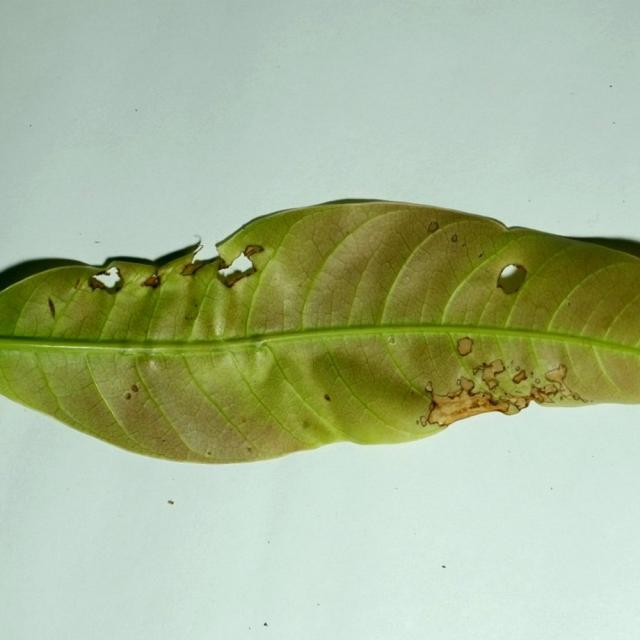Anthracnose: (85, 240, 259, 295), (416, 220, 515, 309), (435, 335, 531, 397), (77, 264, 134, 296), (425, 380, 465, 410), (242, 244, 264, 258), (124, 384, 139, 399), (72, 278, 86, 291), (48, 297, 56, 317), (427, 400, 438, 414), (427, 221, 439, 233), (419, 416, 428, 426), (451, 234, 458, 242)
Mango: (0, 199, 639, 467)
